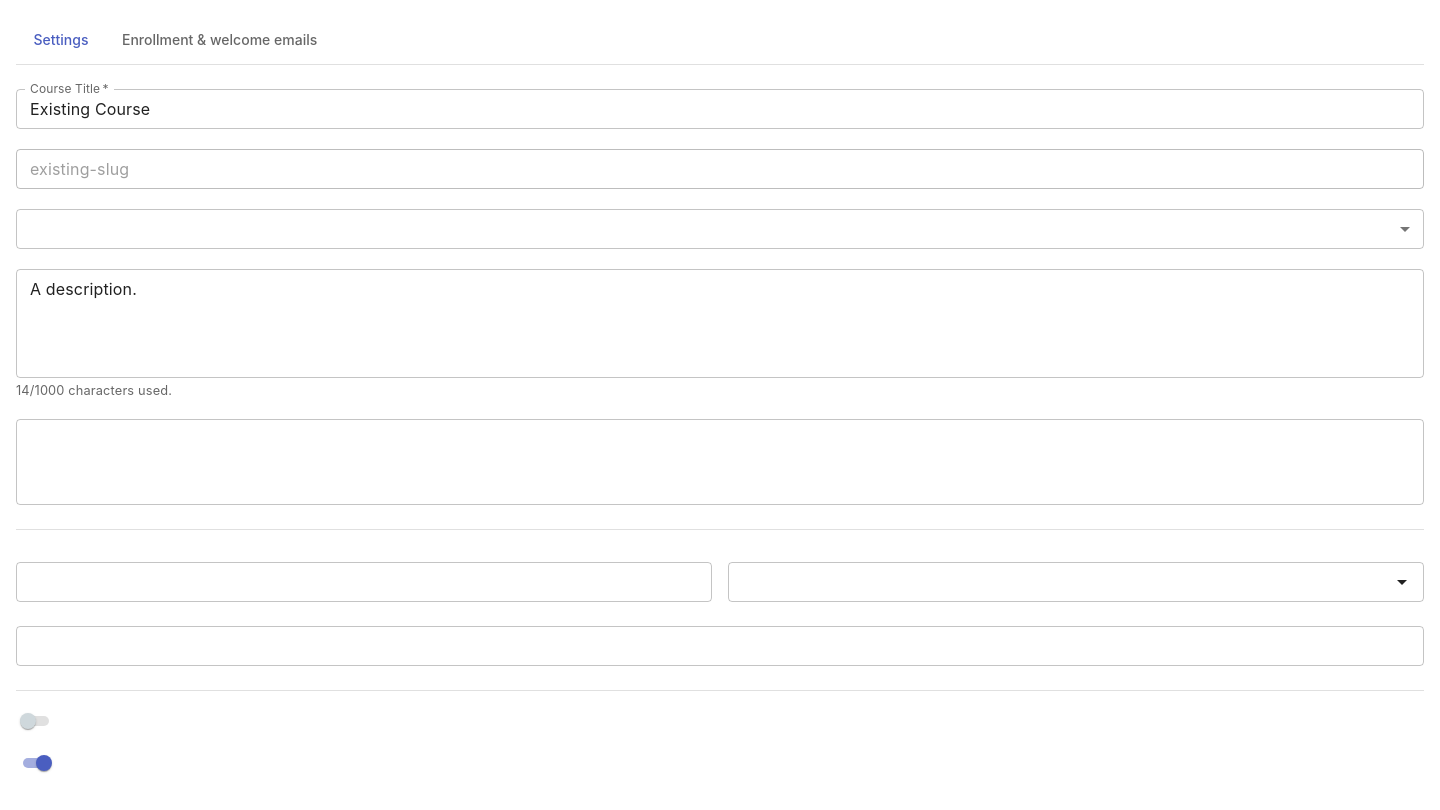
Test: CourseForm enrollment & welcome emails tab › asks for a key before gating enrollments
Click the tab "Enrollment & welcome emails".
click(220, 40)  # box [106,16,333,64]
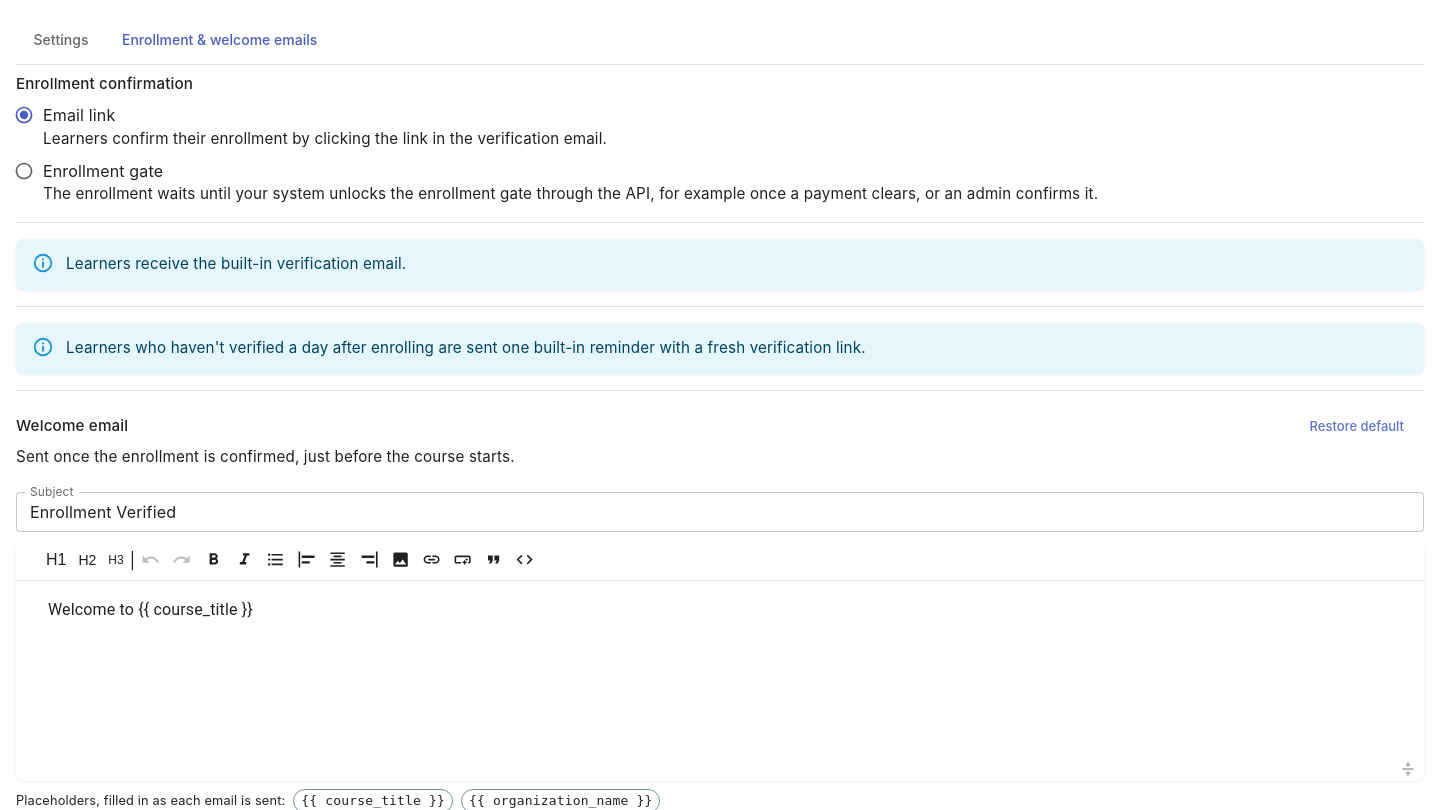
Click the radio button labelled "Enrollment gate".
click(556, 182)  # box [14,161,1098,203]
(page scrolled)
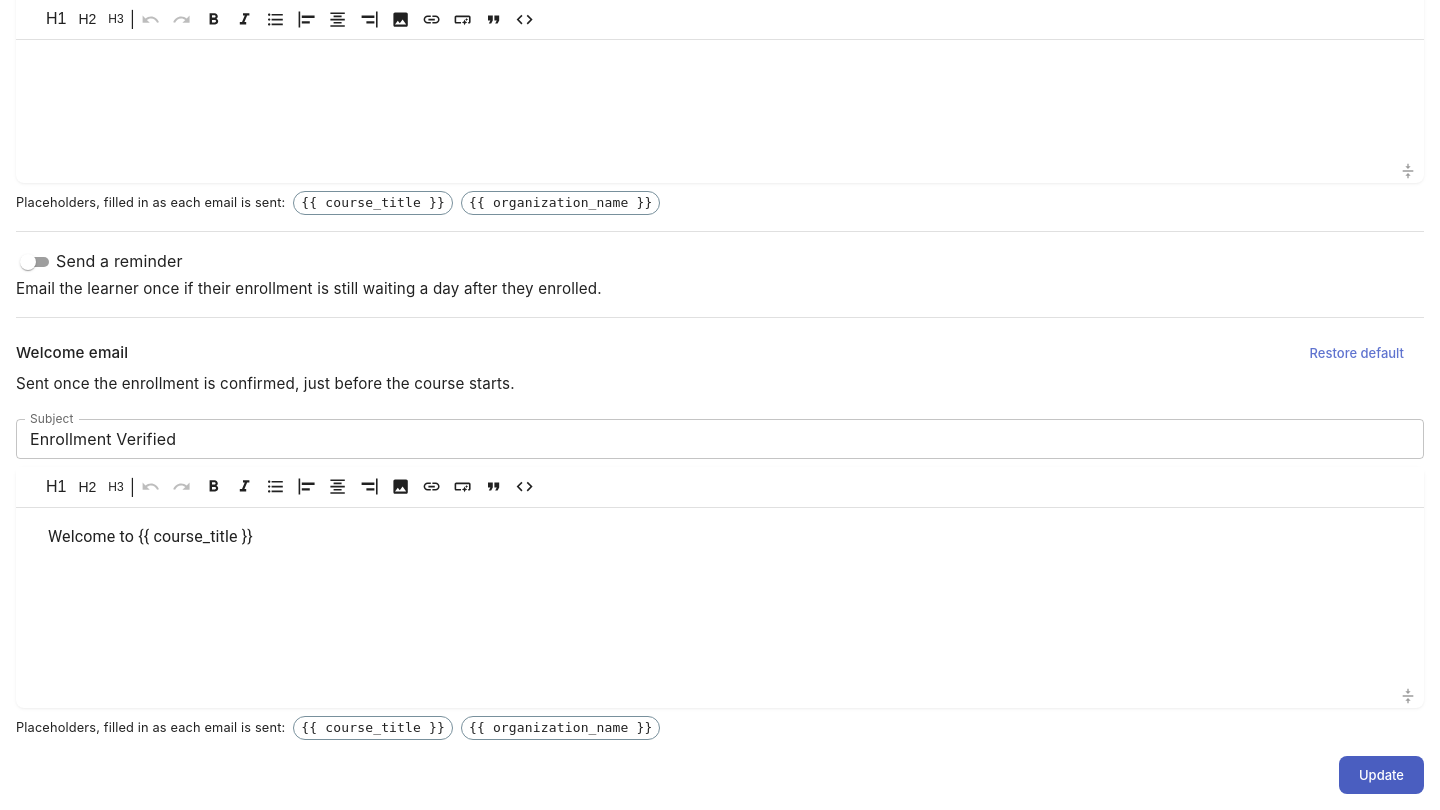
Click the button "Update".
click(1382, 775)  # box [1339,756,1424,794]
(page scrolled)
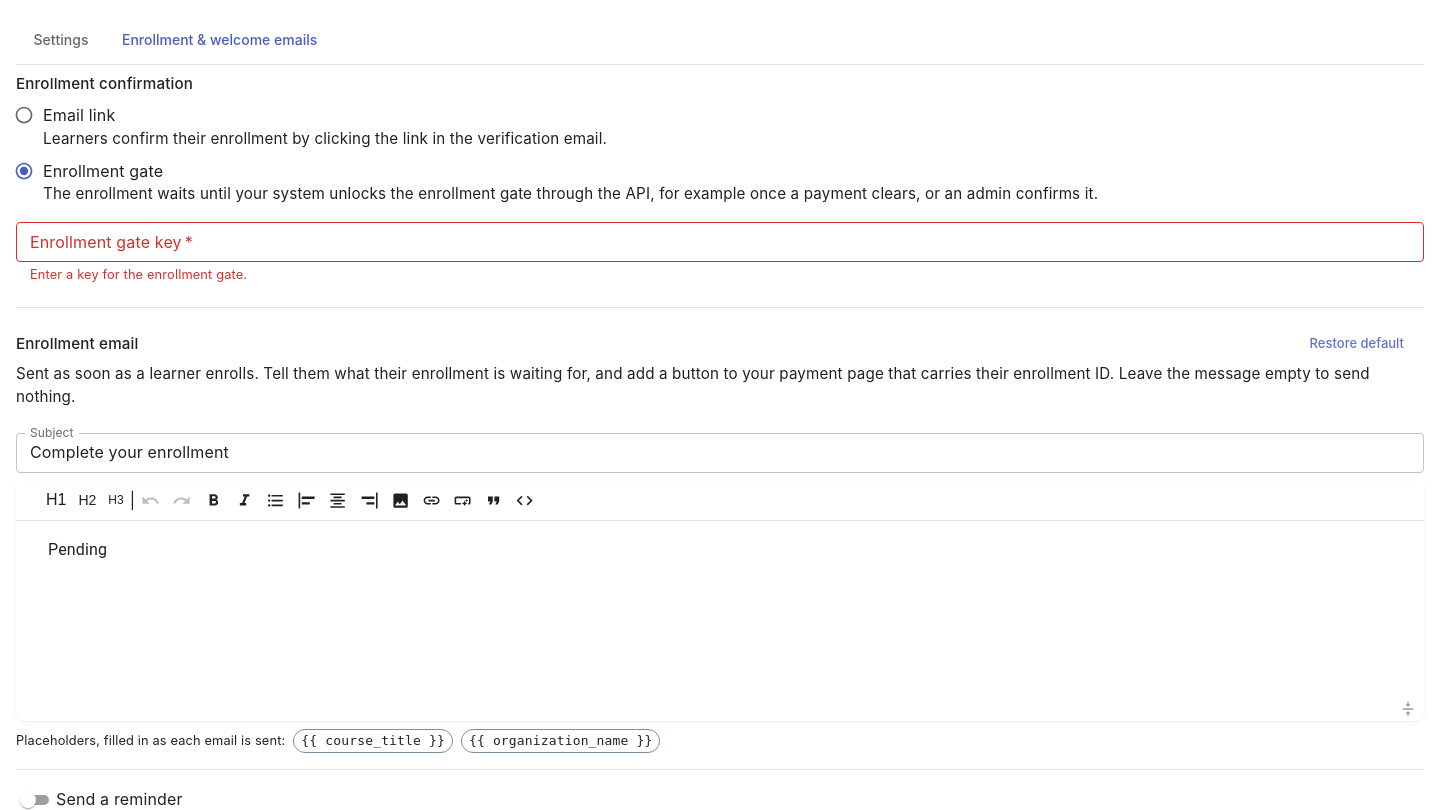
expect the text "Enter a key for the enrollment gate." is shown: met, box [30,267,247,282]
